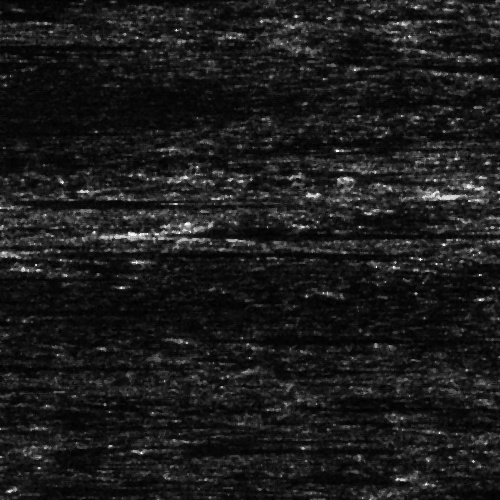object: (54, 223, 211, 242), (0, 243, 92, 260), (259, 396, 332, 413), (146, 332, 239, 341), (417, 49, 500, 58), (134, 446, 207, 451), (0, 197, 29, 208), (134, 257, 165, 262), (183, 437, 224, 440), (4, 422, 35, 425)
shadow: (133, 223, 471, 242), (9, 243, 343, 260), (296, 396, 476, 413), (0, 197, 240, 208), (192, 332, 456, 341), (0, 304, 303, 311), (0, 37, 88, 50), (0, 270, 103, 281), (0, 318, 128, 325), (170, 446, 349, 451), (0, 0, 291, 3), (0, 14, 255, 17), (204, 437, 383, 440), (20, 422, 192, 425), (150, 257, 236, 262), (0, 364, 139, 367), (458, 49, 500, 58)
